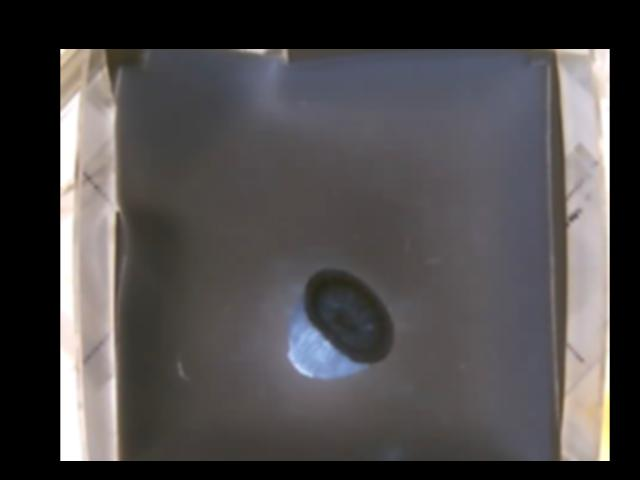Mooli: (285, 265, 395, 376)
